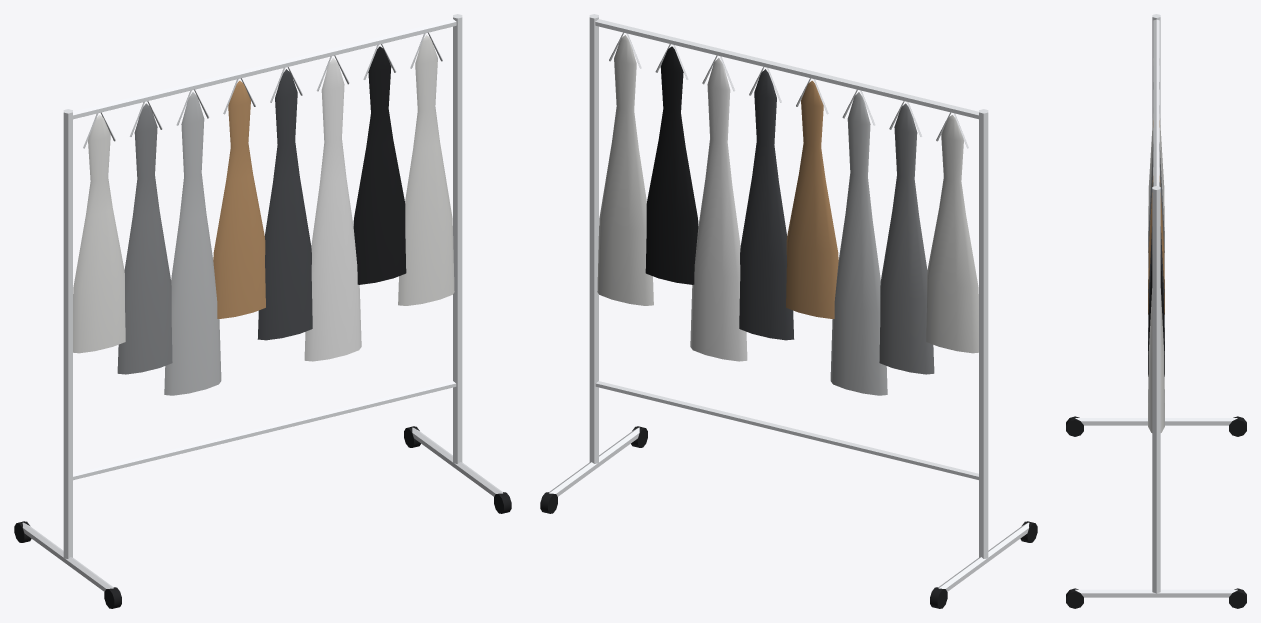
Rendered from costume_rack.glb.
The picture shows the model from 3 angles, left to right: view 1: azimuth 30°, elevation 25°; view 2: azimuth 150°, elevation 25°; view 3: azimuth 270°, elevation 25°; orthographic projection. The views are drawn at different scales.
Visible parts, largest first — view 1: costume_rack; view 2: costume_rack; view 3: costume_rack.
Part boxes in pixels (left/top/right/bottom): costume_rack: left=14, top=14, right=511, bottom=608; costume_rack: left=540, top=14, right=1037, bottom=608; costume_rack: left=1066, top=14, right=1246, bottom=608.
Size of the model in its own units: 1.54 by 1.71 by 0.6666.
